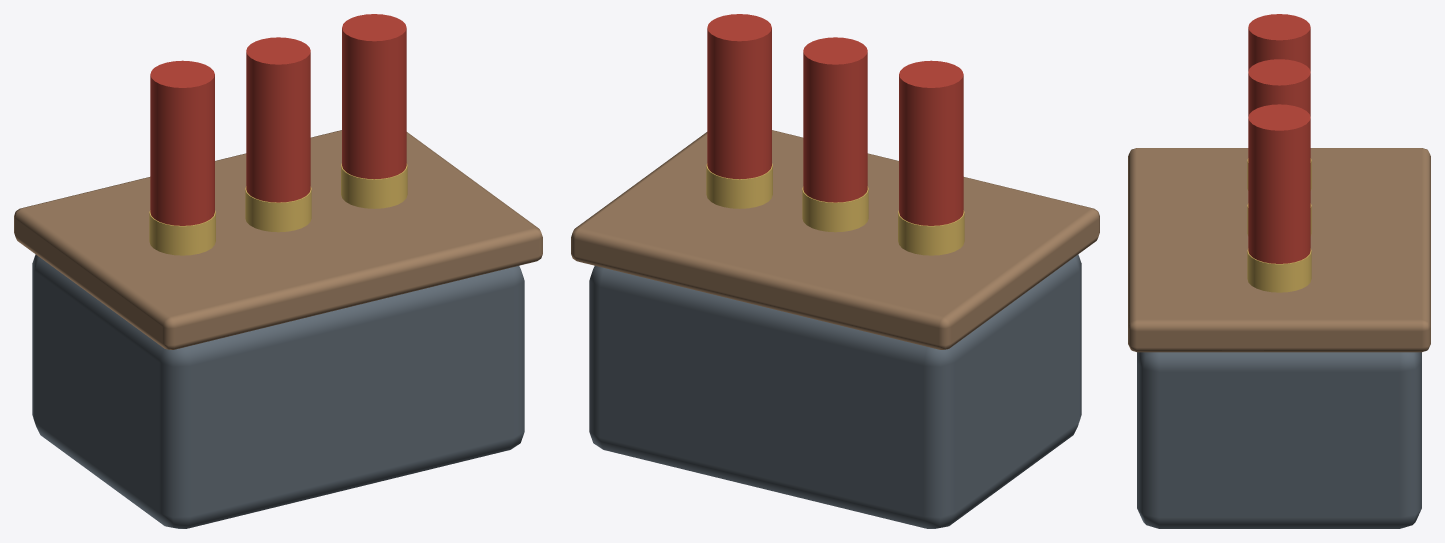
File: arena-shooter-map-kit-ammo-shotgun-4837829e__23118.glb
3 renders of one model, left to right at view 1: azimuth 30°, elevation 25°; view 2: azimuth 150°, elevation 25°; view 3: azimuth 270°, elevation 25°, orthographic. The views are drawn at different scales.
Visible parts, largest first — view 1: ammo-shotgun; view 2: ammo-shotgun; view 3: ammo-shotgun.
Part boxes in pixels (x1,y1,x2,y2): ammo-shotgun: (14, 14, 542, 528); ammo-shotgun: (571, 14, 1099, 528); ammo-shotgun: (1128, 14, 1430, 528).
Size of the model in its own units: 0.475 by 0.47 by 0.34.
